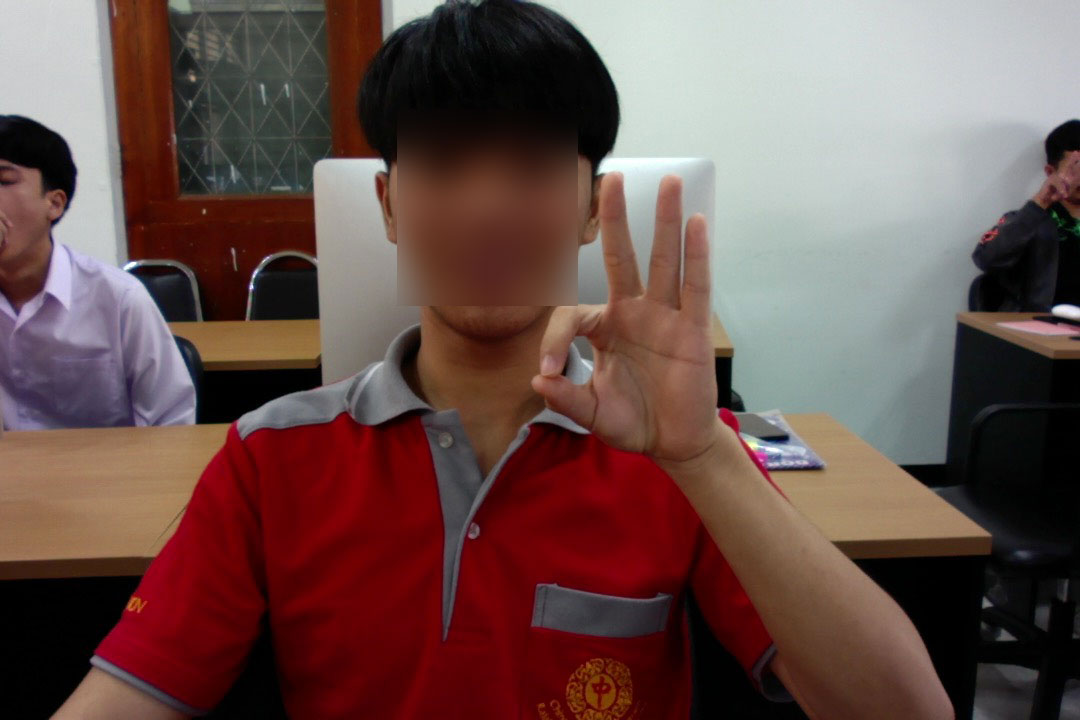for: (519, 164, 739, 471)
